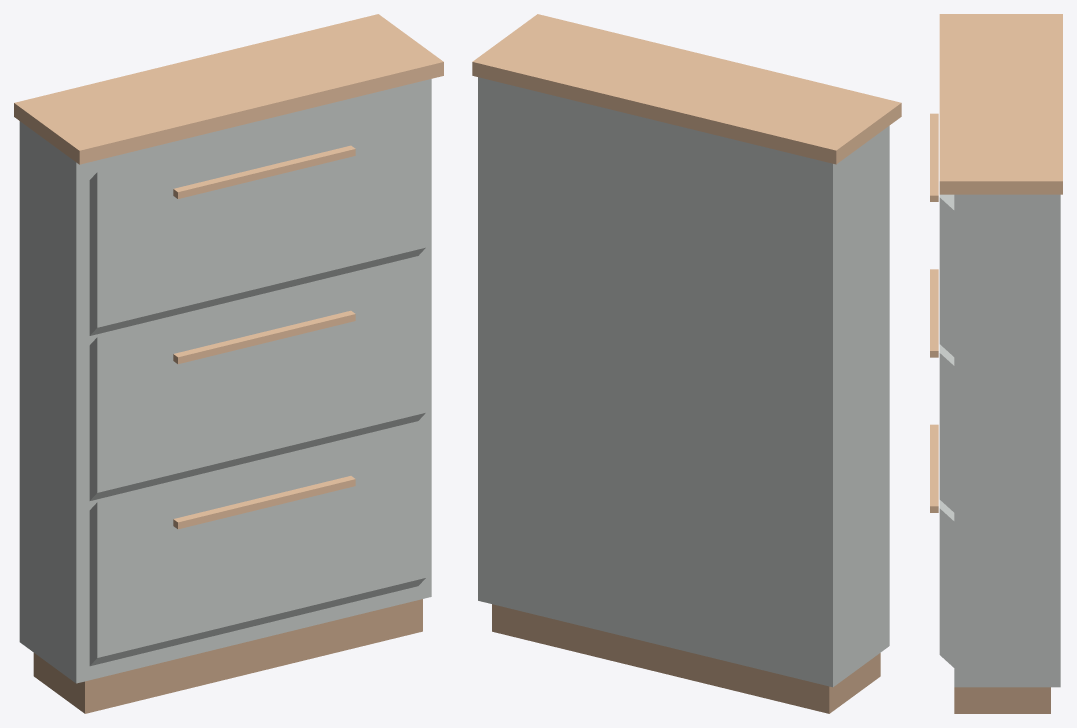
File: shoeCabinet.glb
3 views of the same model, side by side, from view 1: azimuth 30°, elevation 25°; view 2: azimuth 150°, elevation 25°; view 3: azimuth 270°, elevation 25° (orthographic). The views are drawn at different scales.
Visible parts, largest first — view 1: shoeCabinet; view 2: shoeCabinet; view 3: shoeCabinet.
Part boxes in pixels (x1,y1,x2,y2): shoeCabinet: [14, 14, 443, 713]; shoeCabinet: [472, 14, 901, 713]; shoeCabinet: [930, 14, 1062, 713].
Size of the model in its own units: 0.41 by 0.615 by 0.1375.
